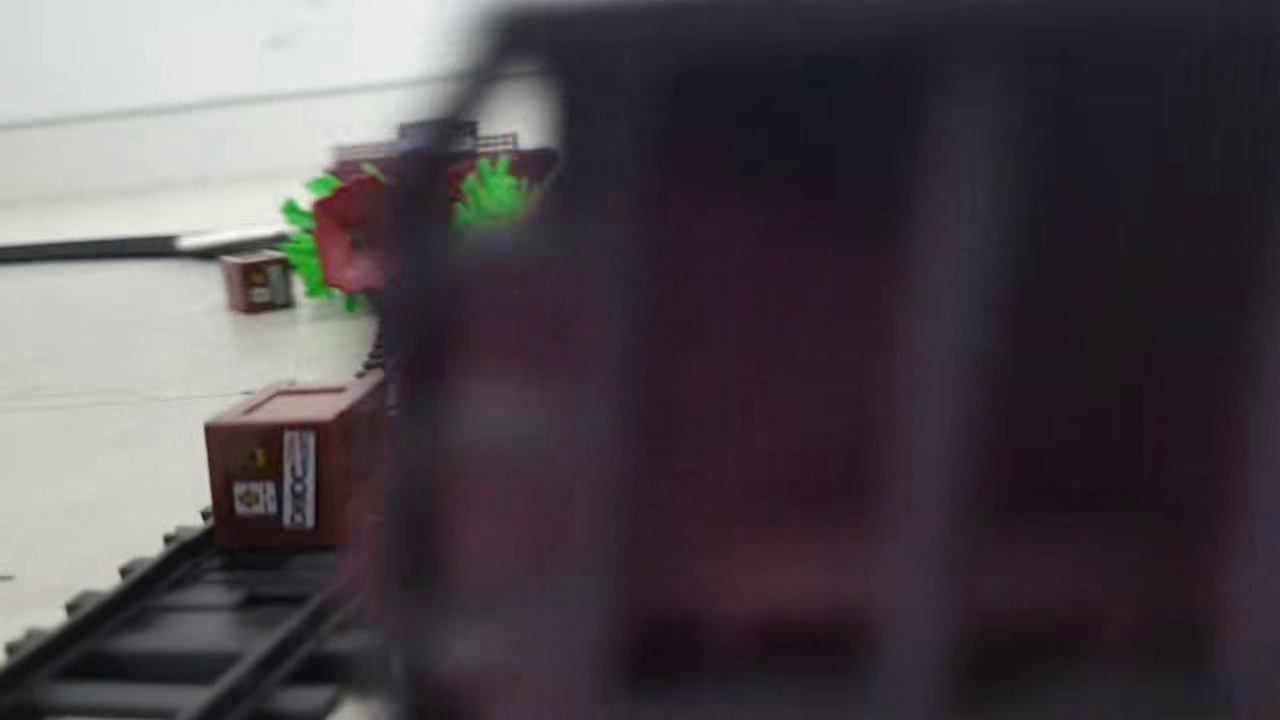box: (203, 378, 402, 556), (217, 249, 299, 316)
tree: (279, 162, 411, 314), (447, 156, 573, 264)
web: (171, 227, 291, 248)
